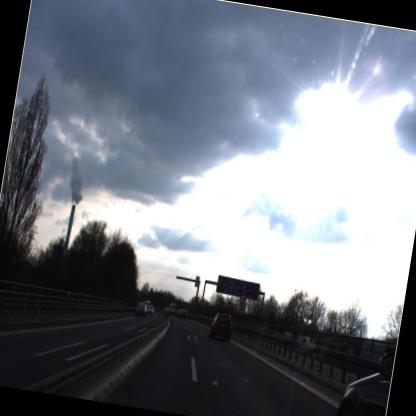mandatory: (238, 280, 251, 296)
